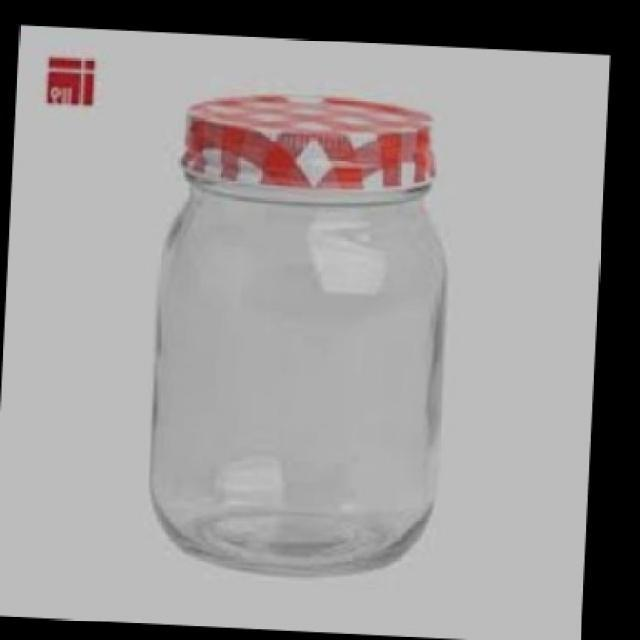Glass: (147, 93, 448, 578)
